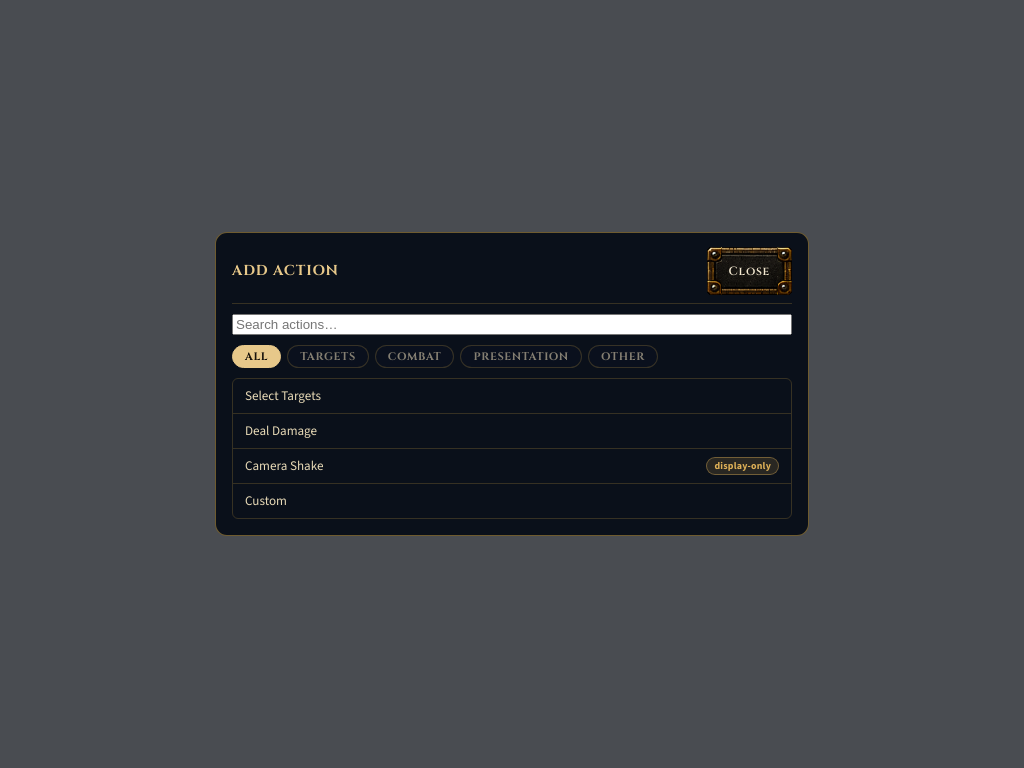
Test case: AddActionDialog › composes search and category chip filters as an AND
The width and height of the screenshot is (1024, 768).
Click the button with test id "add-action-chip" showing "Targets" at (328, 356), box [287,345,369,368]
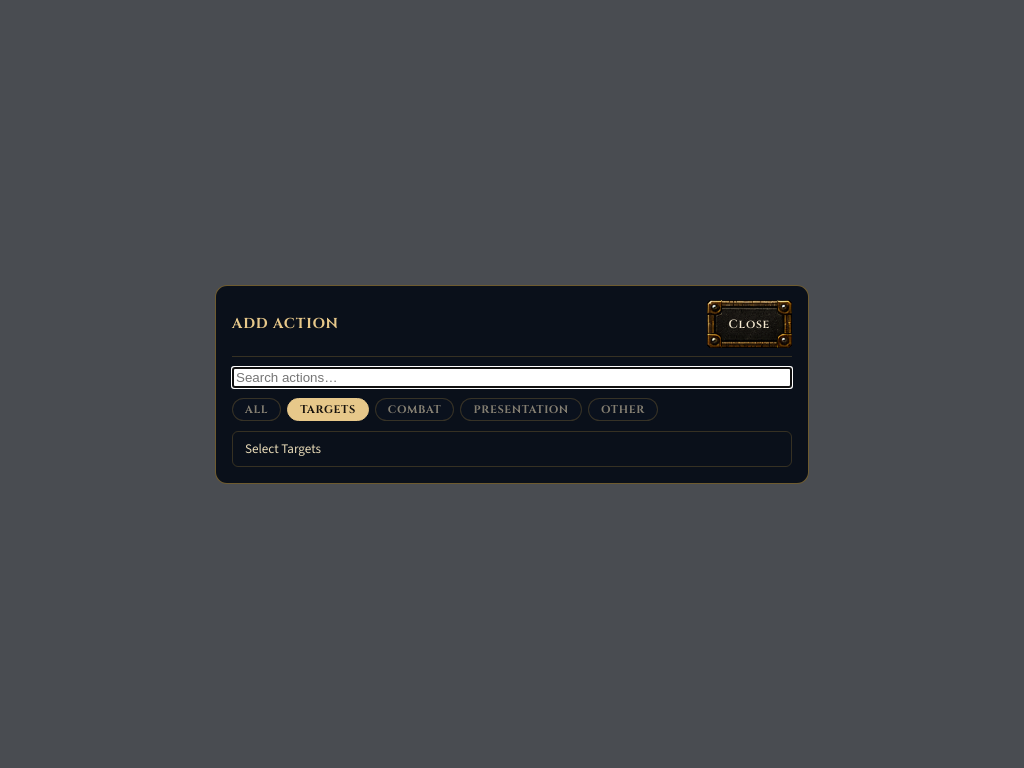
Type "damage" into the search field with test id "add-action-search" at (512, 377), box [232,366,792,388]
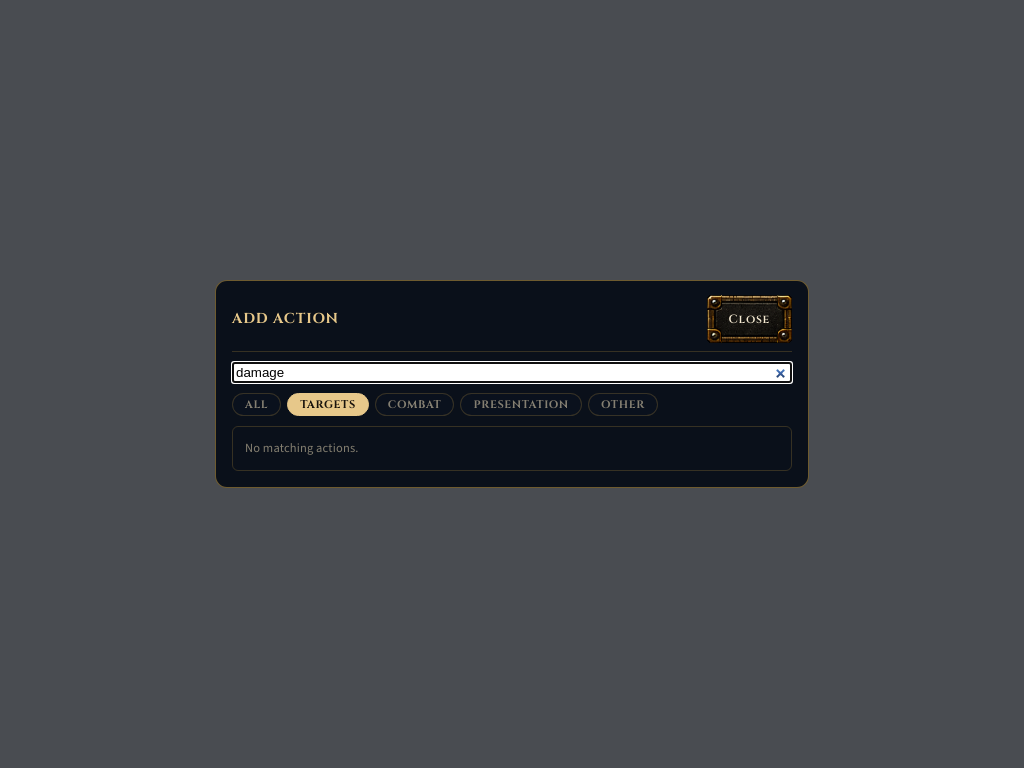
Now no buttons with test id "add-action-entry" are shown
Now the text "No matching actions." is shown, box [245,439,359,457]
